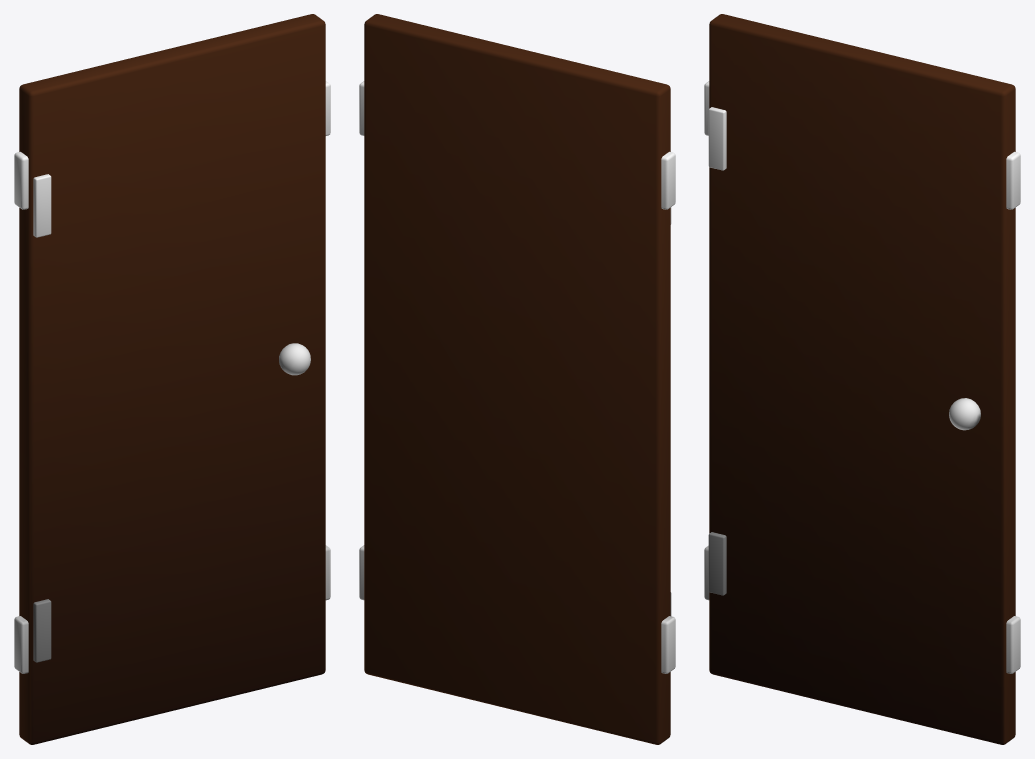
File: wooden-door-plank.obj
3 renders of one model, left to right at view 1: azimuth 30°, elevation 25°; view 2: azimuth 150°, elevation 25°; view 3: azimuth 330°, elevation 25°, orthographic.
Parts seen in each view (by area): view 1: wooden-door-plank; view 2: wooden-door-plank; view 3: wooden-door-plank.
Part boxes in pixels (<box>): wooden-door-plank: <box>14,14,330,744</box>; wooden-door-plank: <box>359,14,675,744</box>; wooden-door-plank: <box>704,14,1020,744</box>.
Bounding box in the file's own units: 0.99 × 2 × 0.135.
